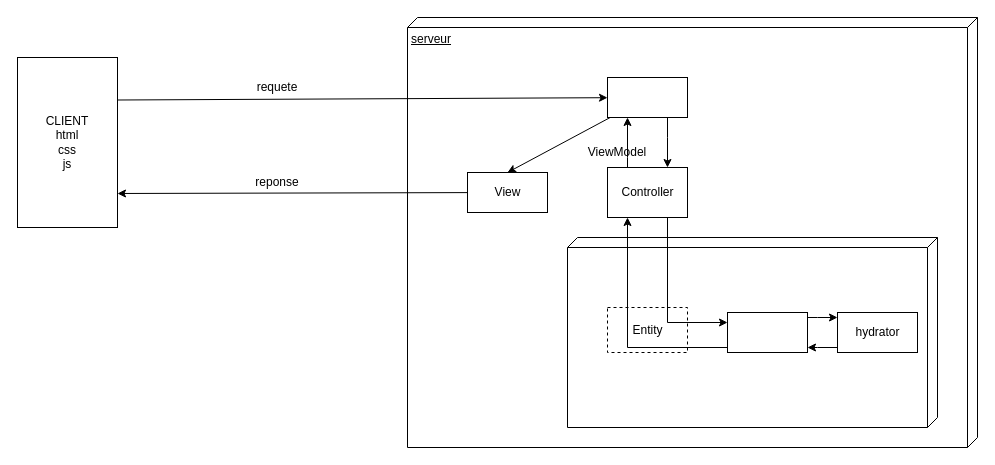
Some shapes in this 995 by 465 pixel diagram are drawn without their labels. Each missing label, with the box of its shape:
index.php: (606, 76, 688, 118)
Model: (566, 236, 938, 428)
Repository: (726, 312, 808, 352)
